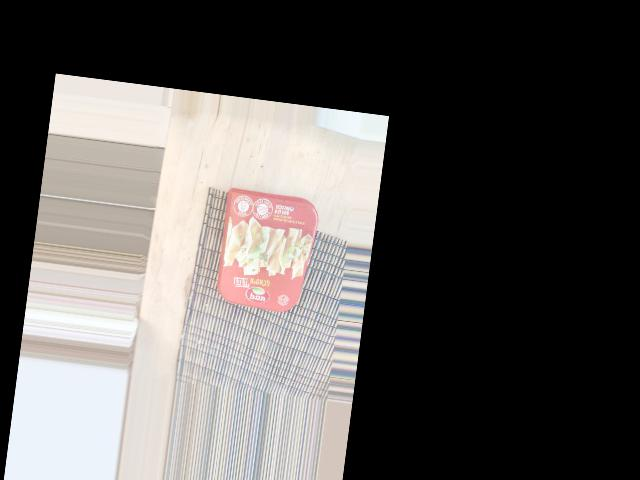cheese: (206, 259, 339, 366)
